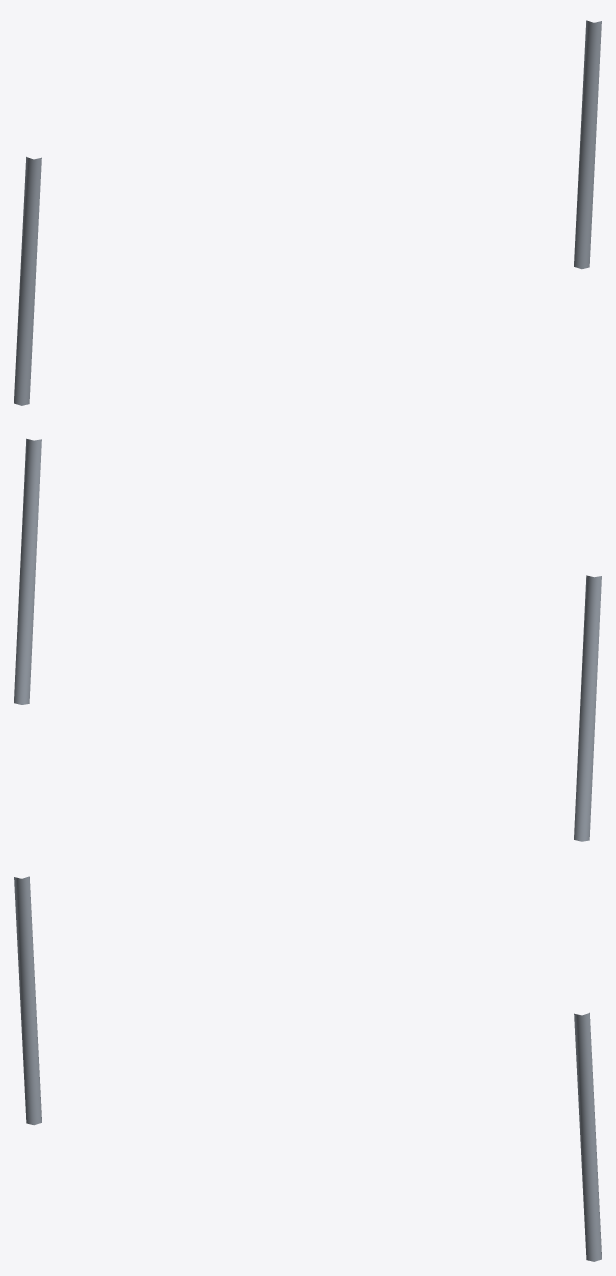
File: kd_stage_135ded_4_58_bounded.glb
3 renders of one model, top to bottom at view 1: azimuth 30°, elevation 25°; view 2: azimuth 150°, elevation 25°; view 3: azimuth 330°, elevation 25°, orthographic.
Parts seen in each view (by area): view 1: kd_stage_135ded_4_58_bounded; view 2: kd_stage_135ded_4_58_bounded; view 3: kd_stage_135ded_4_58_bounded.
Boxes of the visible parts, box(x1,y1,x2,y2) form: kd_stage_135ded_4_58_bounded: box(14, 20, 601, 405); kd_stage_135ded_4_58_bounded: box(14, 438, 601, 841); kd_stage_135ded_4_58_bounded: box(14, 876, 601, 1261).
Bounding box in the file's own units: 1.11 × 0.4721 × 0.067.
Materials: 1 (1 with a texture image).
